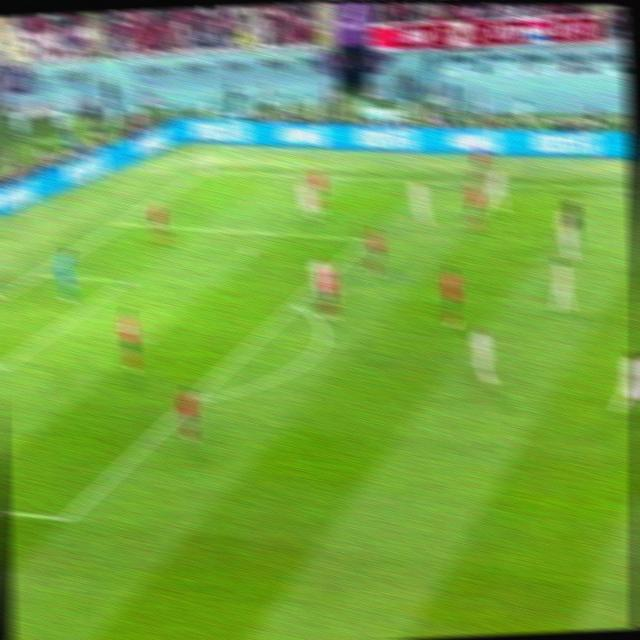bigarea_bottom_inner: (53, 501, 80, 534)
bigarea_top_inner: (356, 227, 378, 249)
bigarea_top_outter: (113, 212, 133, 232)
bottom_arc_area_intersection: (185, 389, 206, 409)
corner: (194, 162, 218, 178)
smallarea_top_inner: (114, 269, 136, 291)
smallarea_top_outter: (30, 263, 53, 284)
top_arc_area_intersection: (285, 292, 307, 313)
